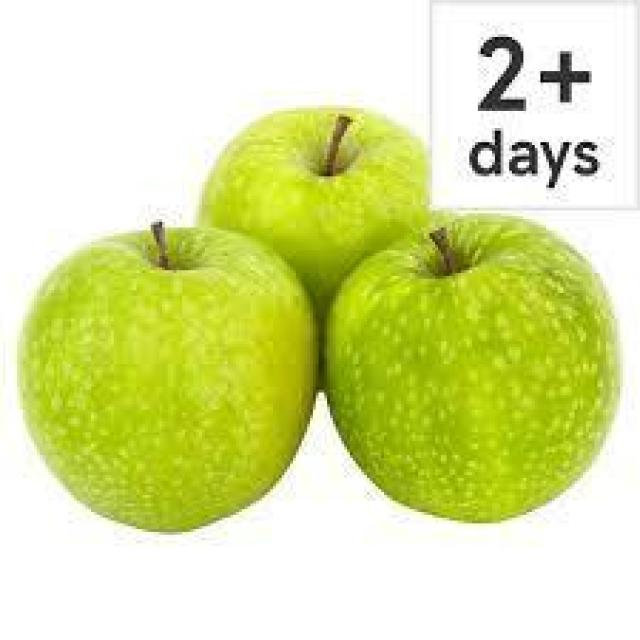maca: (14, 216, 319, 532), (322, 208, 620, 523), (193, 102, 430, 310)
